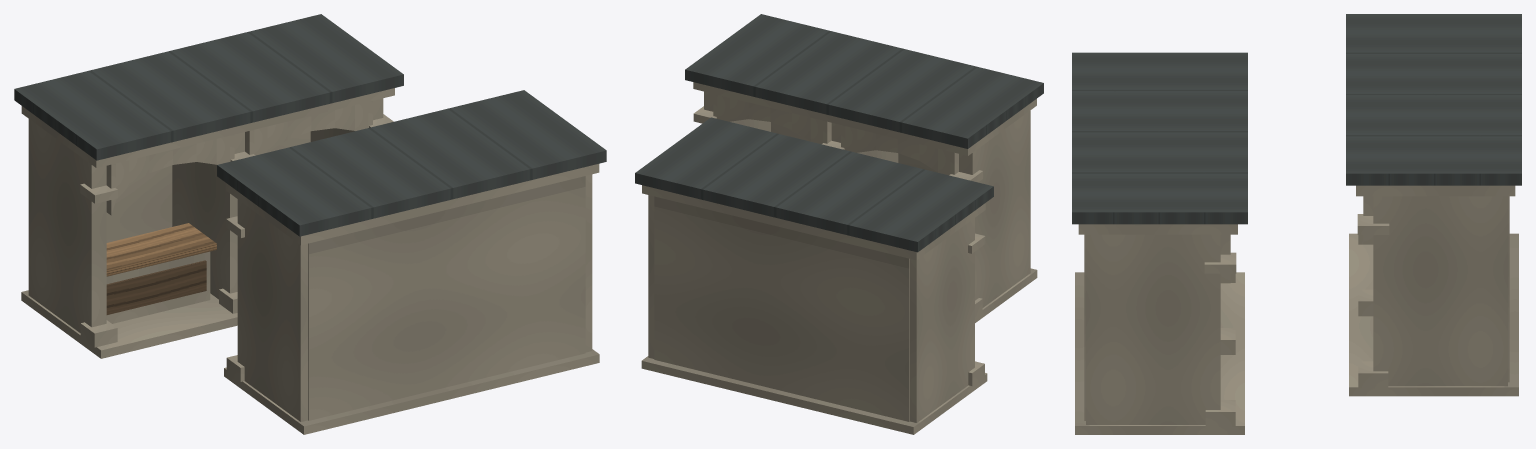
The model's file is tashkent.glb.
3 renders of one model, left to right at view 1: azimuth 30°, elevation 25°; view 2: azimuth 150°, elevation 25°; view 3: azimuth 270°, elevation 25°, orthographic. The views are drawn at different scales.
Parts seen in each view (by area): view 1: tashkent; view 2: tashkent; view 3: tashkent.
Boxes of the visible parts, x1,y1,x2,y2 form: tashkent: (14,14,606,434); tashkent: (635,14,1043,434); tashkent: (1072,14,1521,434).
Bounding box in the file's own units: 4.71 × 2.5 × 4.52.
1 material, 1 textured.
